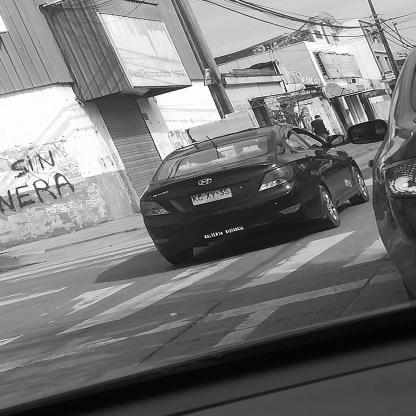Patente: (188, 186, 236, 208)
